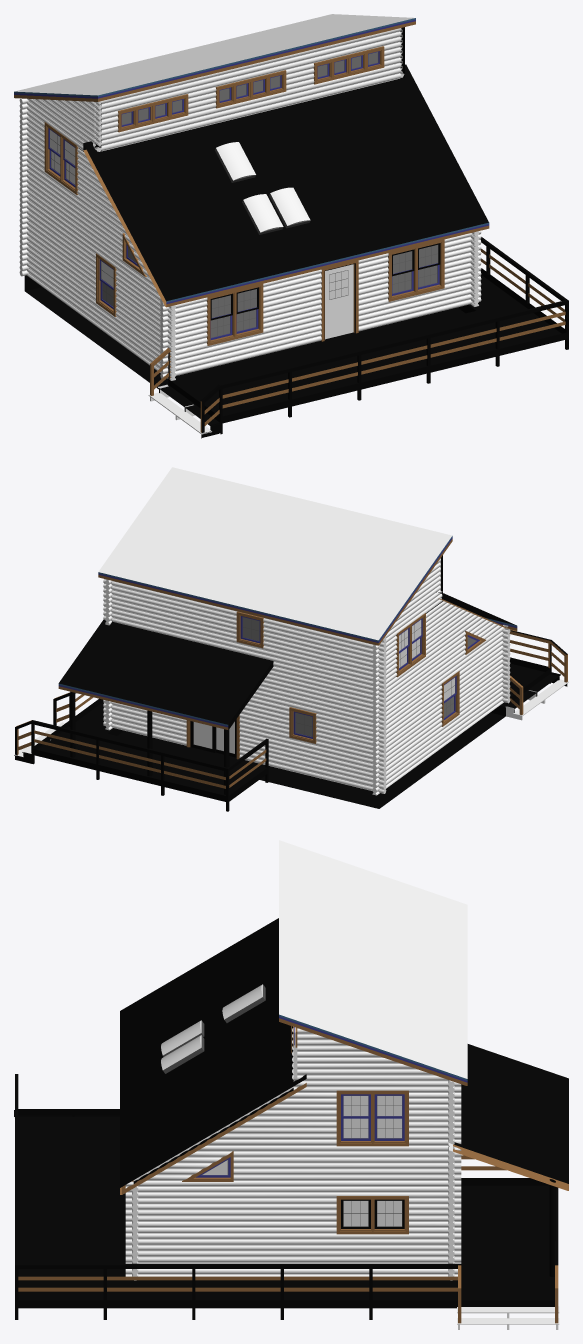
3 renders of one model, top to bottom at view 1: azimuth 30°, elevation 25°; view 2: azimuth 150°, elevation 25°; view 3: azimuth 270°, elevation 25°, orthographic. The views are drawn at different scales.
Parts seen in each view (by area): view 1: Roof_001, Layer0_001, Second Floor_001; view 2: Roof_001, Layer0_001, Second Floor_001; view 3: Roof_001, Layer0_001, Second Floor_001.
Boxes of the visible parts, x1,y1,x2,y2 form: Roof_001: [14, 14, 489, 307]; Layer0_001: [19, 192, 568, 438]; Second Floor_001: [19, 73, 404, 284]; Roof_001: [58, 467, 517, 729]; Layer0_001: [14, 624, 568, 811]; Second Floor_001: [103, 579, 504, 721]; Roof_001: [120, 840, 568, 1194]; Layer0_001: [14, 1074, 559, 1329]; Second Floor_001: [133, 1045, 461, 1186].
Size of the model in its own units: 466 by 293 by 515.
